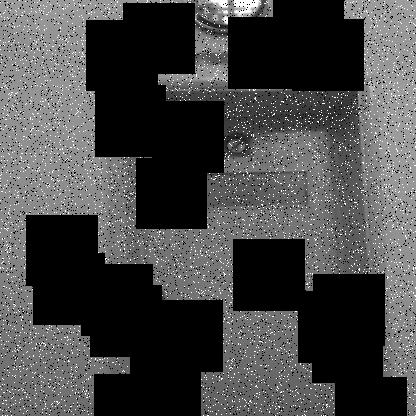Porte: (101, 69, 392, 415)
